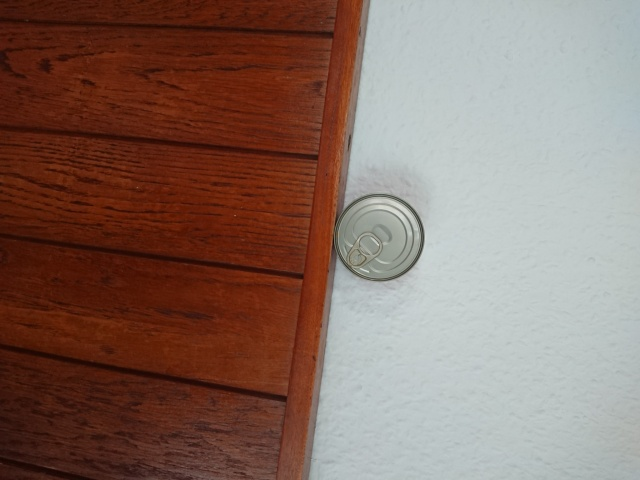Gavrilovic Pork Liver Pate 100g: (331, 191, 427, 284)
